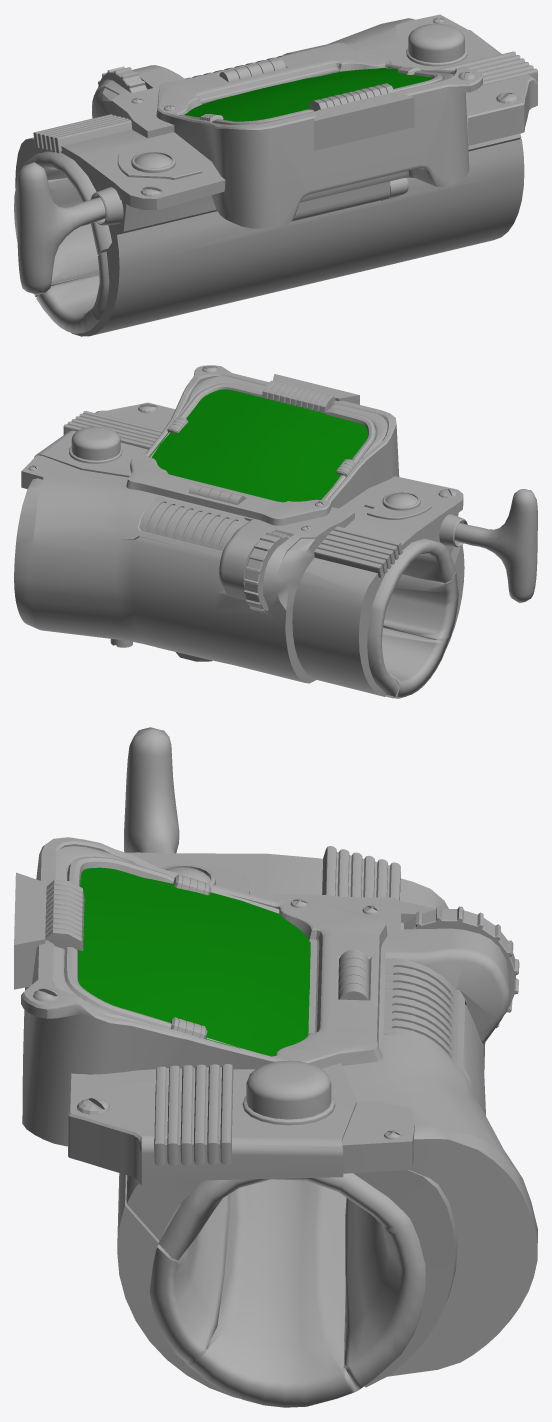
Rendered from BobBoi.fbx.
3 renders of one model, top to bottom at view 1: azimuth 30°, elevation 25°; view 2: azimuth 150°, elevation 25°; view 3: azimuth 270°, elevation 25°, orthographic. The views are drawn at different scales.
Visible parts, largest first — view 1: Base, Pull, Screen_low, Push_button, Hologram, Thumb_button; view 2: Base, Screen_low, Pull, Thumb_button, Push_button, Hologram; view 3: Base, Screen_low, Pull, Push_button, Thumb_button.
Boxes of the visible parts, <box> form: Base: <box>14,14,537,336</box>; Pull: <box>17,162,105,294</box>; Screen_low: <box>184,68,432,121</box>; Push_button: <box>408,23,464,62</box>; Hologram: <box>131,151,175,172</box>; Thumb_button: <box>98,66,146,92</box>; Base: <box>14,365,467,698</box>; Screen_low: <box>149,389,367,502</box>; Pull: <box>454,489,537,603</box>; Thumb_button: <box>243,531,290,613</box>; Push_button: <box>71,426,120,460</box>; Hologram: <box>382,492,420,510</box>; Base: <box>14,837,537,1407</box>; Screen_low: <box>77,867,310,1056</box>; Pull: <box>124,727,179,853</box>; Push_button: <box>246,1060,331,1119</box>; Thumb_button: <box>400,906,519,1028</box>.
Size of the model in its own units: 34.47 by 15.52 by 20.15.
